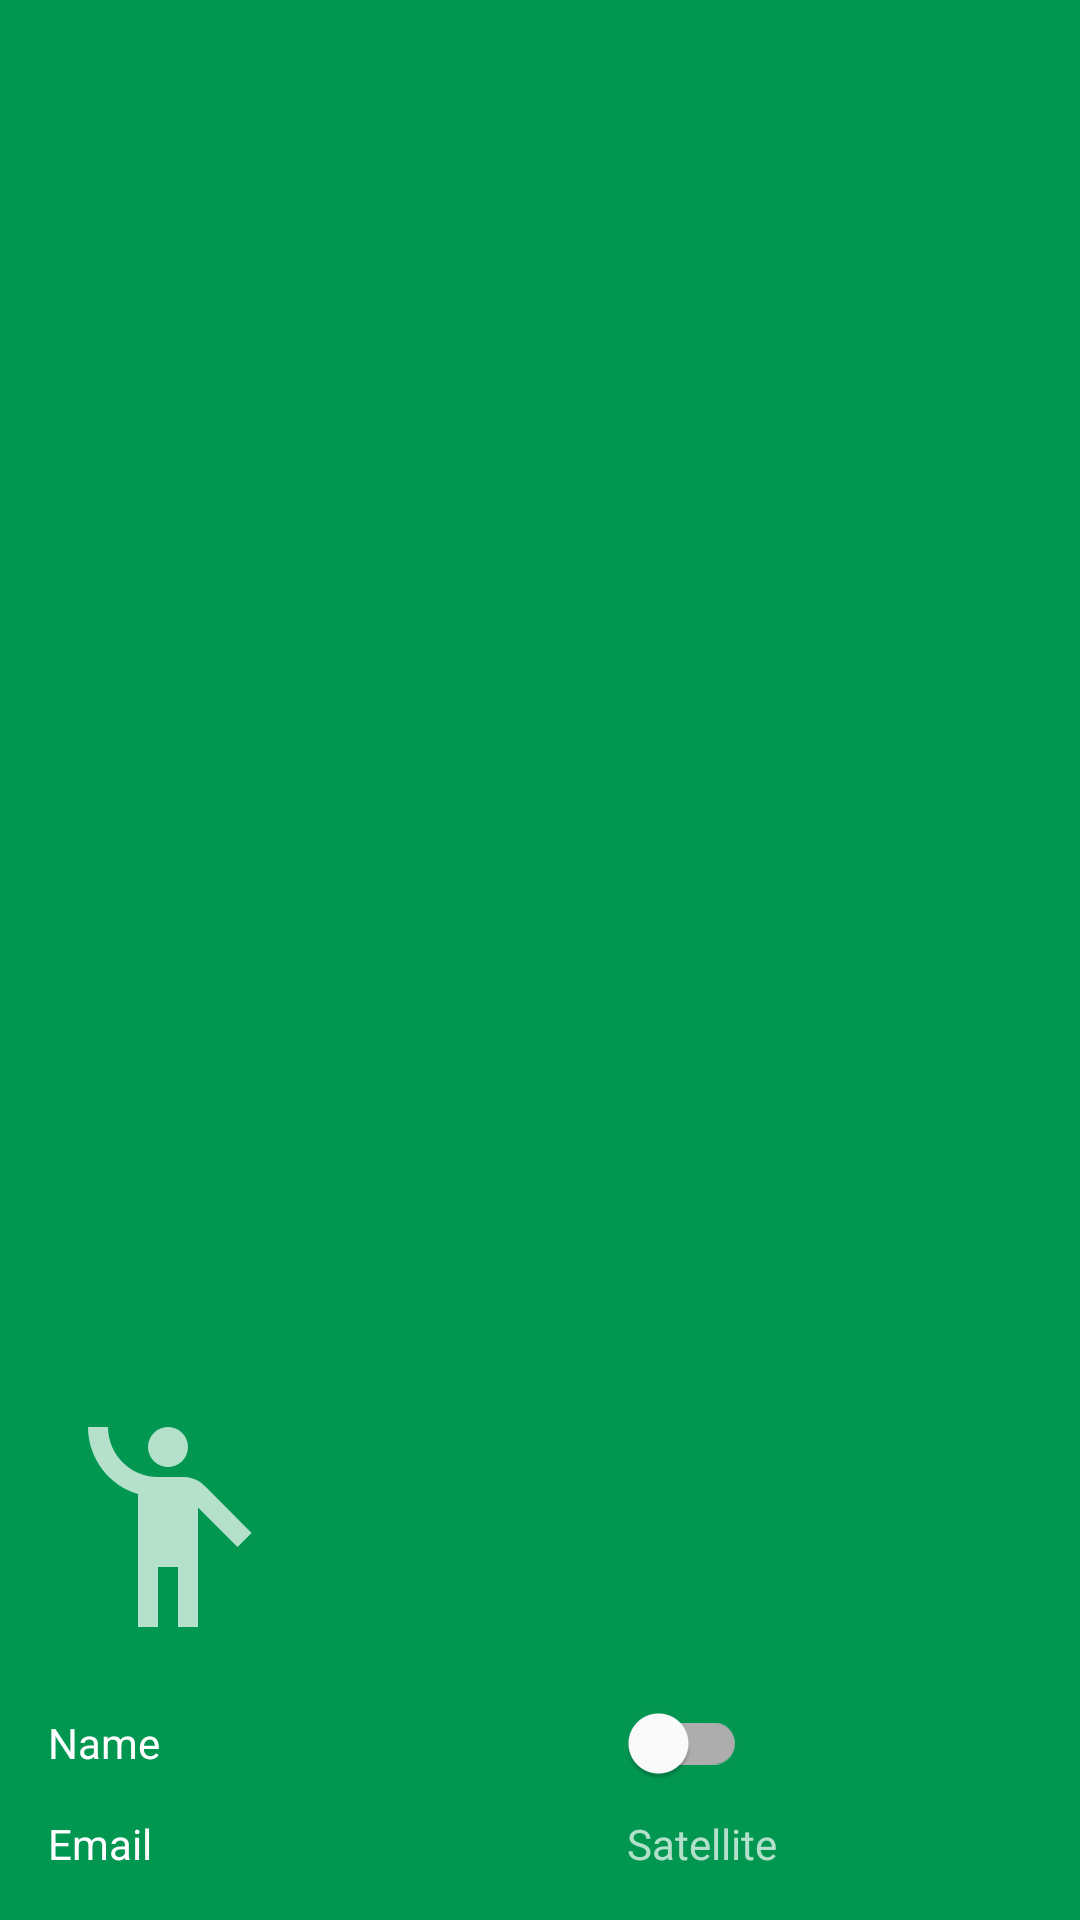

Named icons in this screenshot (1080px x 1920px) and their centers, [x,y]:
people: [170,1527]
